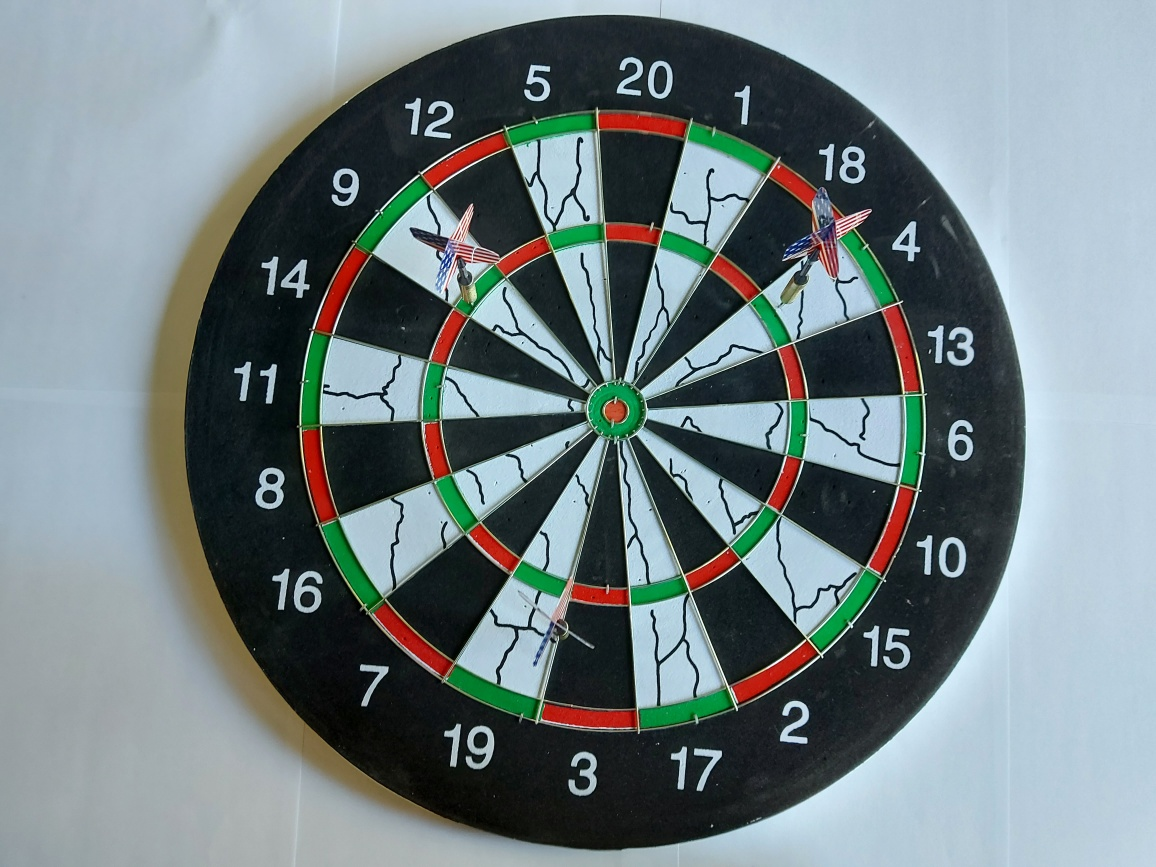Dart: (772, 180, 879, 320), (399, 197, 510, 320), (502, 571, 607, 673)
